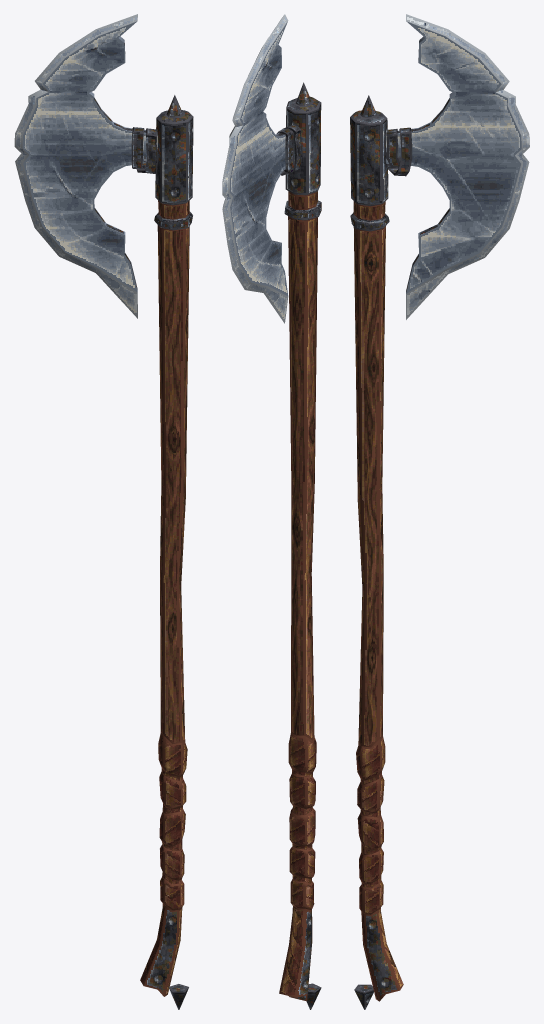
File: dane_axe.glb
3 views of the same model, side by side, from view 1: azimuth 90°, elevation 25°; view 2: azimuth 150°, elevation 25°; view 3: azimuth 270°, elevation 25° (orthographic).
Visible parts, largest first — view 1: dane_axe; view 2: dane_axe; view 3: dane_axe.
Part boxes in pixels (x1=…): dane_axe: x1=14, y1=14, x2=193, y2=1009; dane_axe: x1=222, y1=14, x2=321, y2=1009; dane_axe: x1=350, y1=14, x2=529, y2=1009.
Size of the model in its own units: 0.0466 by 1.4 by 0.2283.
Materials: 1 (1 with a texture image).
